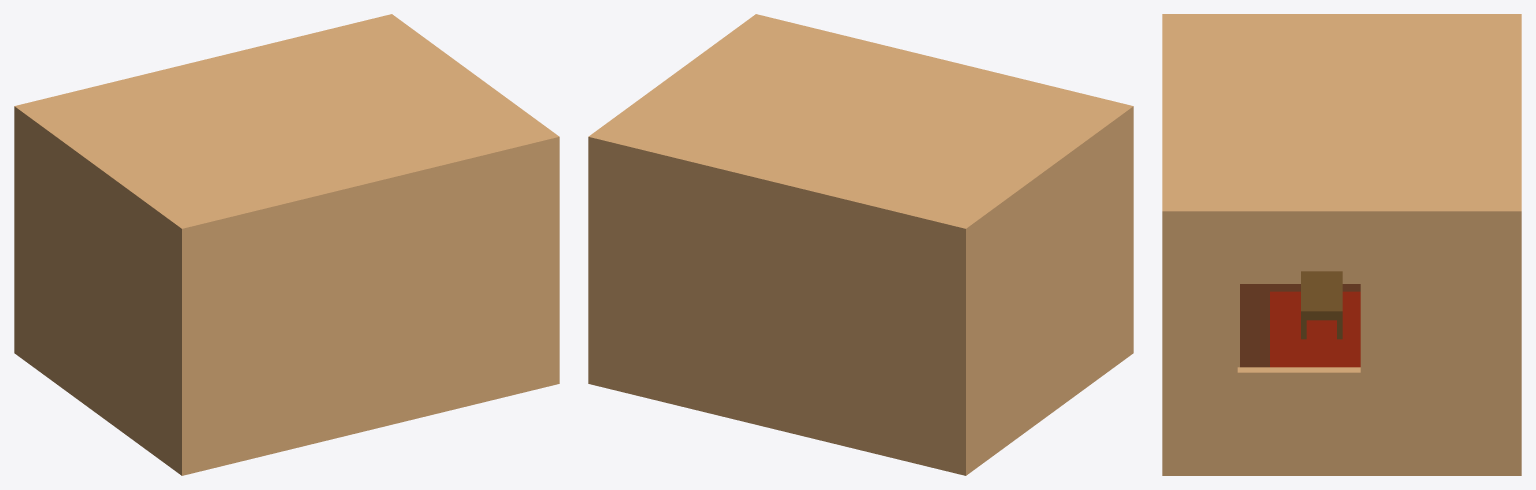
The model's file is S_salon.glb.
3 renders of one model, left to right at view 1: azimuth 30°, elevation 25°; view 2: azimuth 150°, elevation 25°; view 3: azimuth 270°, elevation 25°, orthographic. The views are drawn at different scales.
Visible parts, largest first — view 1: murAvecFenetre, Plane.005; view 2: murAvecFenetre, Plane.005; view 3: murAvecFenetre, Plane.005, Plane.002, Plane, Cube.009, Plane.010.
Part boxes in pixels (x1,y1,x2,y2): murAvecFenetre: (14,14,559,475); Plane.005: (31,21,542,221); murAvecFenetre: (588,14,1133,475); Plane.005: (605,21,1116,221); murAvecFenetre: (1162,14,1521,475); Plane.005: (1176,19,1507,205); Plane.002: (1270,291,1360,367); Plane: (1240,284,1360,367); Cube.009: (1301,271,1342,339); Plane.010: (1176,124,1239,367).
Size of the model in its own units: 4.23 by 2.67 by 3.25.
